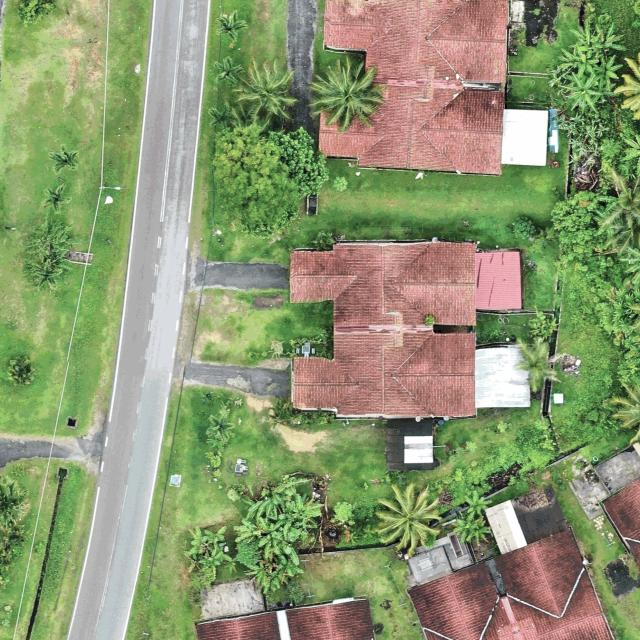Tree: (213, 125, 329, 240), (308, 53, 389, 133), (373, 481, 444, 557), (233, 58, 300, 126), (24, 219, 74, 292), (595, 167, 640, 237), (514, 339, 561, 394), (613, 48, 640, 130), (609, 376, 640, 445), (258, 517, 301, 566), (186, 526, 233, 566), (558, 72, 603, 112), (278, 493, 325, 531), (588, 21, 626, 62), (0, 471, 30, 522), (558, 44, 604, 76), (590, 52, 624, 89), (245, 493, 286, 521), (453, 516, 491, 546), (215, 9, 248, 42), (568, 24, 600, 58), (18, 0, 56, 28), (216, 55, 246, 88), (47, 144, 79, 174), (205, 413, 236, 443), (42, 185, 72, 215), (619, 245, 640, 287), (7, 354, 34, 386), (464, 490, 492, 517), (622, 134, 640, 175), (631, 287, 640, 356), (246, 562, 269, 586)
